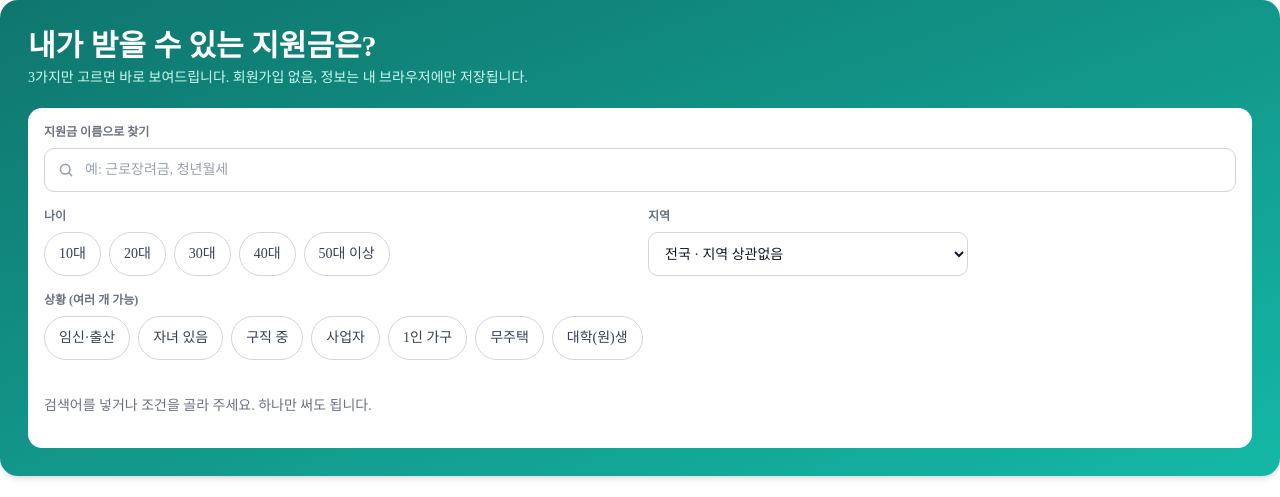
Test case: DiagnosisPanel › 개수 조회가 실패하면 로딩 문구 대신 중립 문구를 보여준다
Step 1. Click the button "30대" → point(202, 254), box [174,232,231,276]
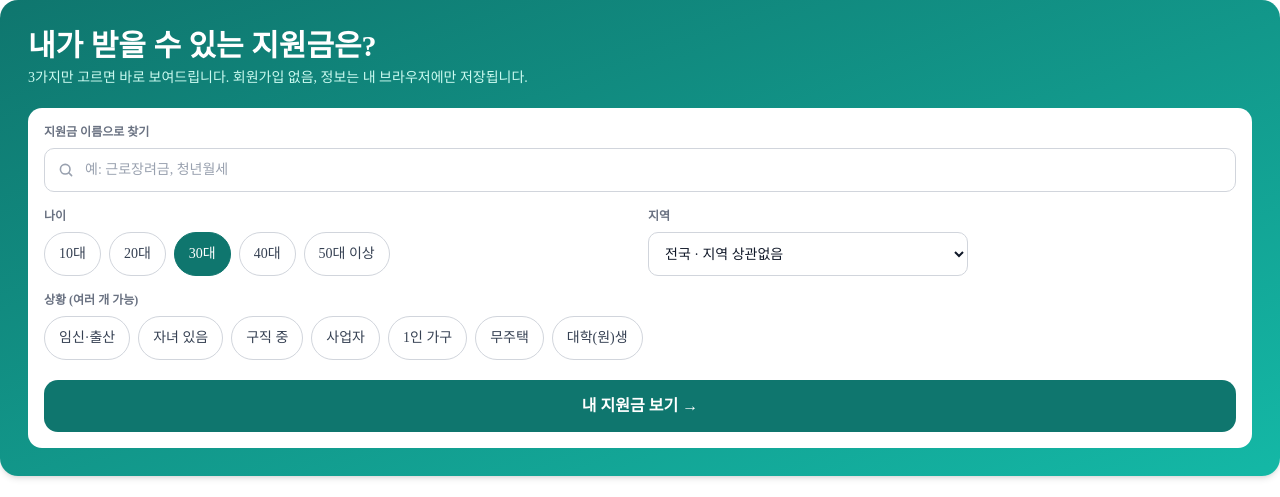
Expected: the link "내 지원금 보기 →" is shown, [44,380,1236,432]
